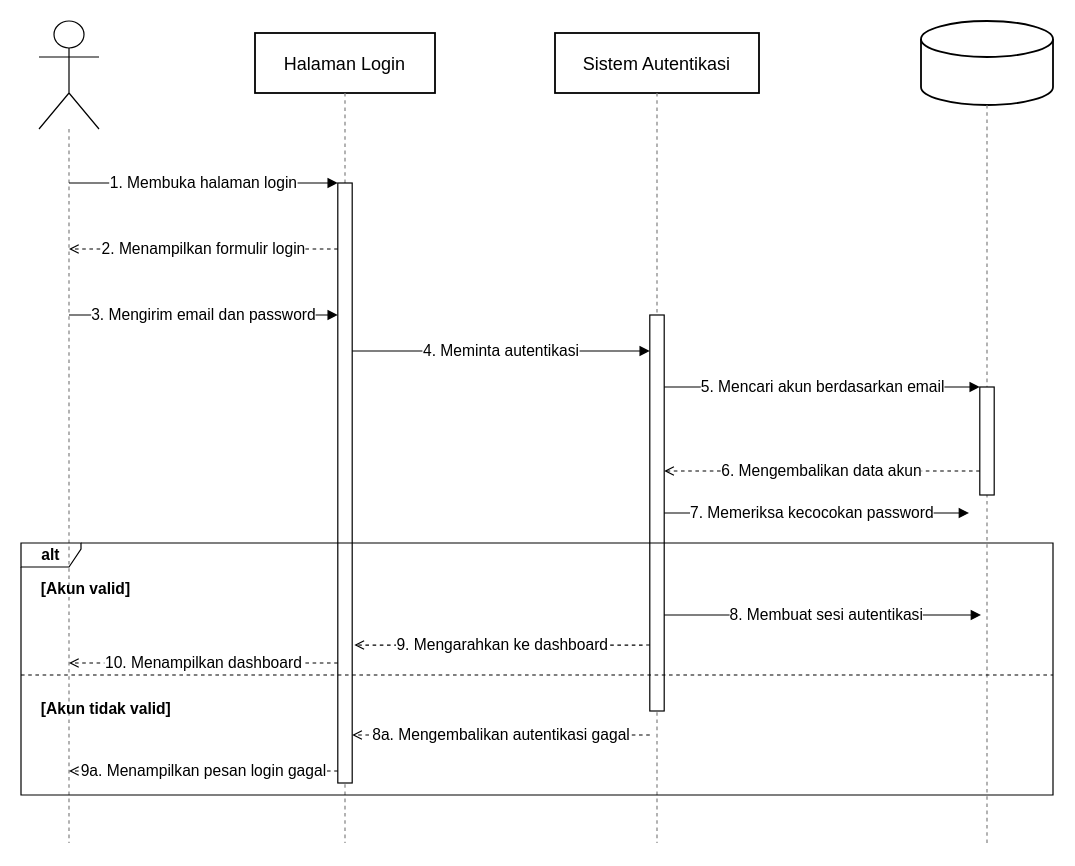
This 1075x866 diagram has some shape labels left out. Each missing label, with the centre of its shape:
Database: the point at 986,62
User: the point at 68,74
